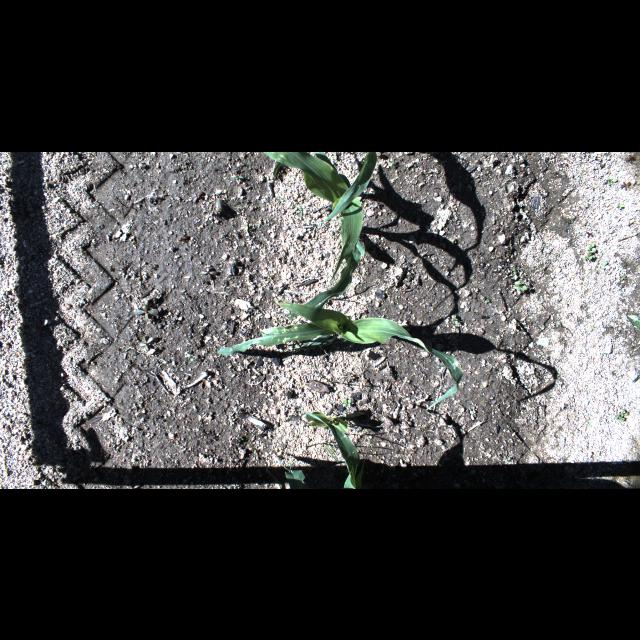crop: (218, 302, 462, 410), (264, 152, 364, 320), (294, 404, 370, 488), (315, 152, 377, 226), (273, 456, 307, 488)
weed: (302, 362, 336, 388), (354, 423, 384, 451), (308, 441, 338, 463), (132, 304, 158, 320), (614, 409, 628, 423), (626, 314, 640, 328), (514, 281, 528, 291), (584, 250, 596, 260), (342, 397, 352, 407), (586, 241, 596, 251), (296, 204, 304, 216), (451, 314, 459, 324), (608, 178, 618, 185), (186, 353, 194, 361), (230, 174, 243, 178), (512, 266, 516, 276), (390, 155, 394, 165), (617, 202, 623, 208), (506, 456, 510, 462), (622, 273, 626, 279)
